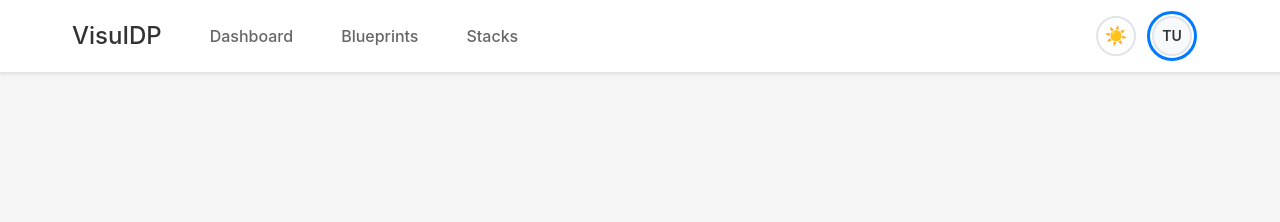
Scenario: Header Integration Tests › Sign out functionality from dropdown › should display Sign Out menu item in dropdown
The image size is (1280, 222).
Open dropdown
Click the button with aria-label "User profile menu" at x=1172, y=36, box [1152,16,1192,56]
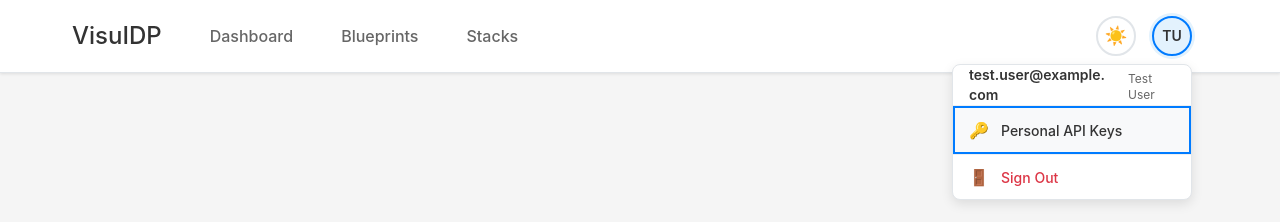
Expected: the menu is shown, [952,64,1192,200]
Expected: the text "Sign Out" is shown, [1001,168,1058,186]
